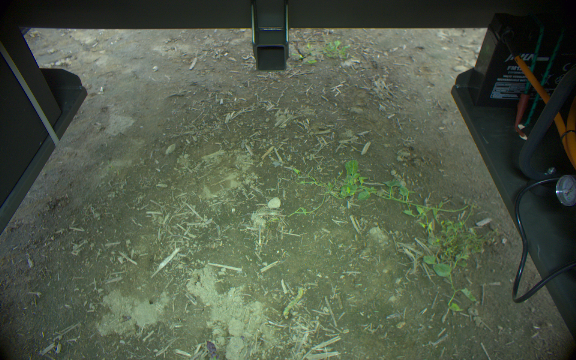aspa: (281, 285, 305, 318), (206, 340, 216, 360)
